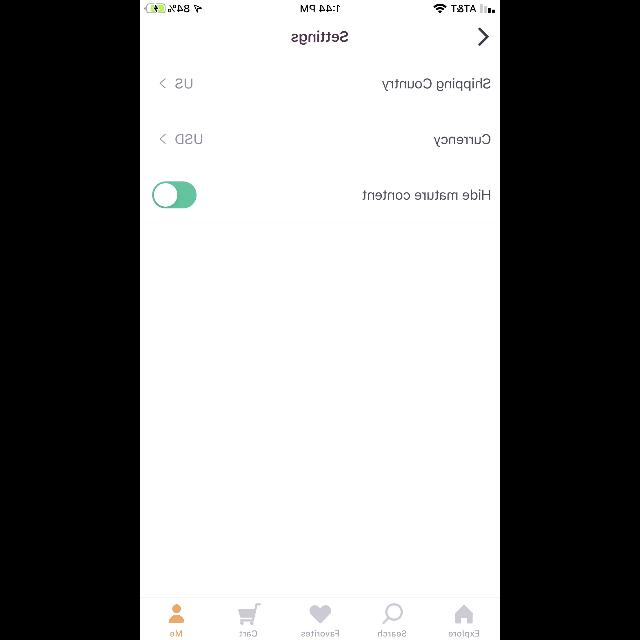icon: (238, 603, 260, 625), (382, 604, 402, 624), (309, 605, 331, 623), (456, 604, 472, 624), (170, 604, 184, 622), (478, 28, 488, 46), (160, 134, 166, 144), (160, 79, 166, 89)
switch: (152, 182, 196, 208)
text: (382, 78, 490, 92), (362, 190, 490, 200), (292, 31, 348, 45), (434, 135, 490, 147), (175, 134, 202, 144), (448, 630, 479, 638), (301, 630, 339, 636), (175, 79, 192, 89), (378, 630, 406, 636), (239, 630, 257, 636), (170, 630, 182, 636)
uppertaskbar: (140, 0, 500, 14)
